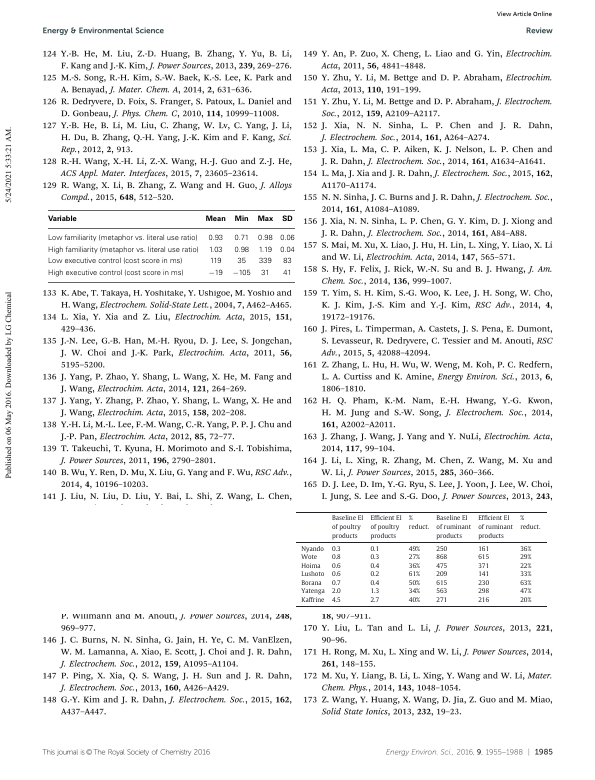borderless: (295, 510, 547, 606), (47, 209, 295, 283)
cell: (46, 246, 199, 255), (46, 234, 198, 243), (46, 269, 184, 278), (46, 257, 183, 266), (435, 515, 472, 540), (477, 515, 514, 540), (331, 515, 364, 540), (370, 515, 403, 540), (519, 515, 542, 531), (408, 515, 430, 531), (46, 215, 77, 223), (300, 596, 326, 605), (300, 570, 325, 579), (300, 588, 326, 596), (300, 545, 325, 553), (300, 579, 323, 587), (231, 269, 251, 278), (204, 215, 226, 223), (300, 562, 322, 570), (300, 553, 318, 562), (256, 234, 273, 243), (207, 234, 223, 243), (233, 234, 249, 243), (279, 234, 295, 243), (207, 246, 223, 255), (233, 246, 249, 255), (279, 246, 295, 255), (207, 269, 223, 278), (256, 215, 273, 223), (257, 246, 272, 255), (257, 257, 272, 266), (233, 215, 249, 223), (208, 257, 222, 266), (408, 553, 421, 562), (435, 553, 448, 562), (477, 553, 490, 562), (519, 553, 532, 562), (408, 570, 421, 579), (435, 570, 448, 579), (477, 570, 490, 579), (519, 570, 532, 579), (408, 596, 421, 605), (435, 596, 448, 605), (477, 596, 490, 605), (519, 596, 532, 605), (408, 545, 421, 553), (435, 545, 448, 553), (477, 545, 490, 553), (519, 545, 532, 553), (408, 562, 421, 570), (435, 562, 448, 570), (477, 562, 490, 570), (519, 562, 532, 570), (408, 579, 421, 587), (435, 579, 448, 587), (477, 579, 490, 587), (519, 579, 532, 587), (408, 588, 421, 596), (435, 588, 448, 596), (477, 588, 490, 596), (519, 588, 532, 596), (331, 553, 342, 562), (331, 570, 342, 579), (331, 596, 342, 605), (281, 215, 293, 223), (236, 257, 246, 266), (282, 257, 292, 266), (260, 269, 270, 278), (282, 269, 292, 278), (370, 553, 380, 562), (370, 570, 380, 579), (370, 596, 380, 605), (331, 545, 342, 553), (331, 562, 342, 570), (331, 579, 342, 587), (331, 588, 342, 596), (370, 545, 380, 553), (370, 562, 380, 570), (370, 579, 380, 587), (370, 588, 380, 596)
